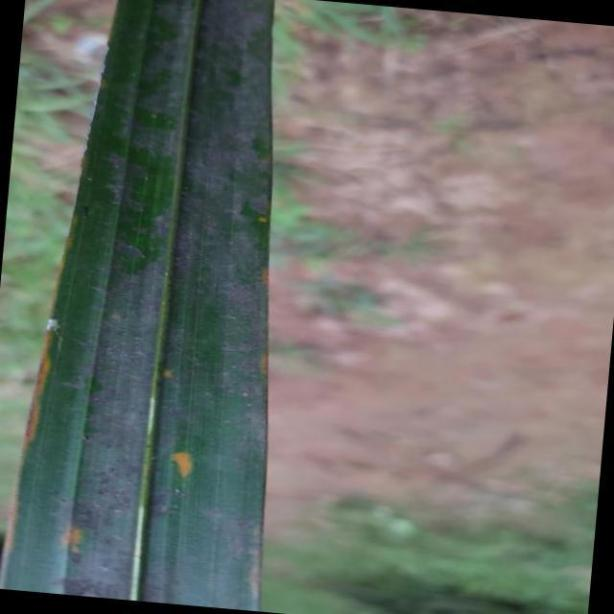Kalium: (5, 0, 275, 612)
